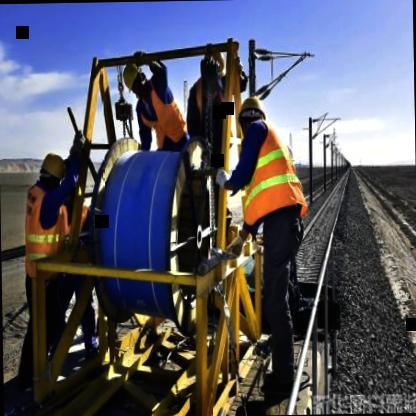helmet: (198, 39, 230, 88), (232, 93, 268, 134), (35, 151, 67, 194), (116, 55, 145, 98)
